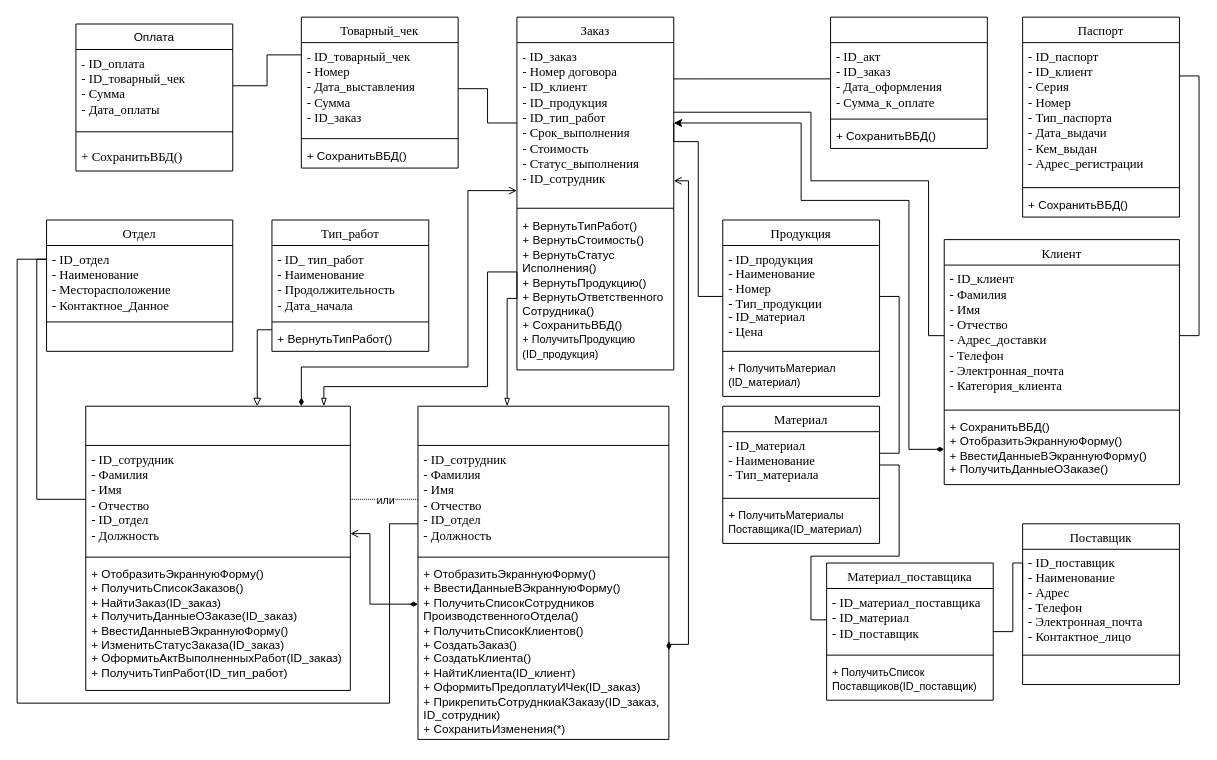
This 1217x760 diagram has some shape labels left out. The shapes that lost their labels are listed below. From the top down, each one's box as (x1, y1, x2, y2) in pixels, then its label:
(830, 16, 987, 148): Акт_выполненных_работ
(85, 405, 350, 690): Сотрудник_ произовдственного_отдела
(417, 405, 669, 739): Сотрудник_отдела_ работы_с_клиентами
